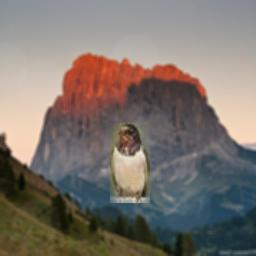Swallow: (110, 123, 150, 203)
